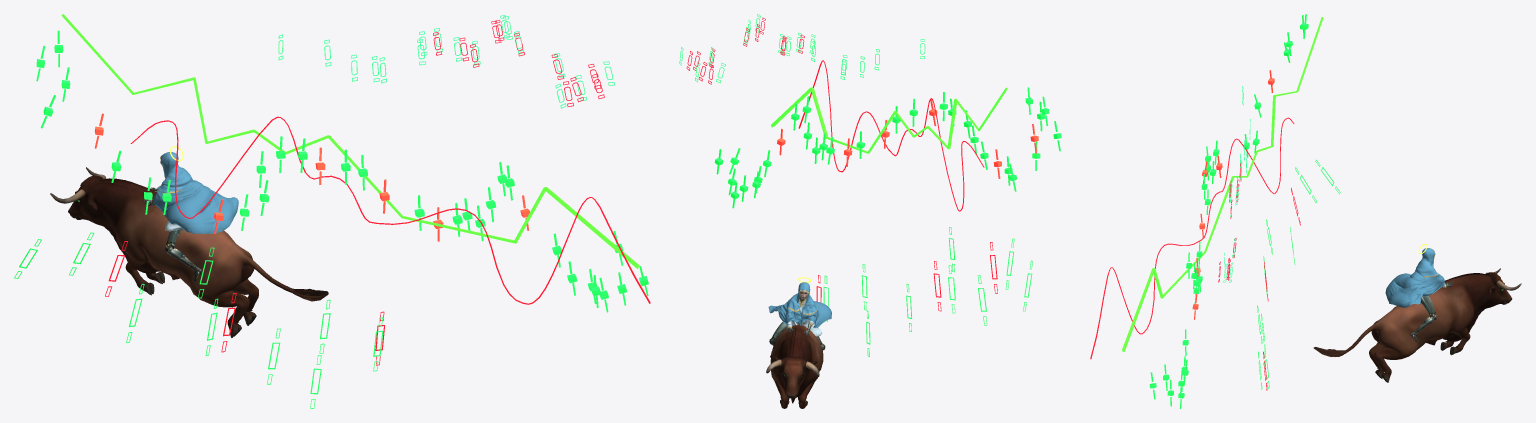
File: ourlady_rider7.glb
3 renders of one model, left to right at view 1: azimuth 30°, elevation 25°; view 2: azimuth 150°, elevation 25°; view 3: azimuth 270°, elevation 25°, orthographic. The views are drawn at different scales.
Visible parts, largest first — view 1: Object_55.007, pose.001, Line_127, RoundLine_168, Object_55.015, lady.002, Object_55.014; view 2: Object_55.007, Line_127, pose.001, RoundLine_168, Object_55.014, lady.002; view 3: Object_55.007, pose.001, Line_127, RoundLine_168, Object_55.054, lady.002, Object_55.014.
Part boxes in pixels (x1,y1,x2,y2): Object_55.007: (88, 180, 254, 301); pose.001: (154, 152, 238, 233); Line_127: (61, 14, 639, 268); RoundLine_168: (130, 116, 650, 304); Object_55.015: (205, 290, 249, 337); lady.002: (144, 187, 202, 282); Object_55.014: (68, 176, 101, 224); Object_55.007: (770, 324, 823, 401); Line_127: (771, 87, 1007, 153); pose.001: (768, 282, 831, 327); RoundLine_168: (798, 60, 984, 211); Object_55.014: (781, 357, 805, 398); lady.002: (769, 291, 825, 354); Object_55.007: (1371, 275, 1494, 356); pose.001: (1385, 248, 1444, 307); Line_127: (1122, 17, 1323, 351); RoundLine_168: (1090, 117, 1294, 359); Object_55.054: (1374, 348, 1407, 382); lady.002: (1410, 281, 1453, 343); Object_55.014: (1487, 272, 1512, 306).
Bounding box in the file's own units: 6.4 × 4.84 × 6.36.
Materials: 18 (2 with a texture image).
